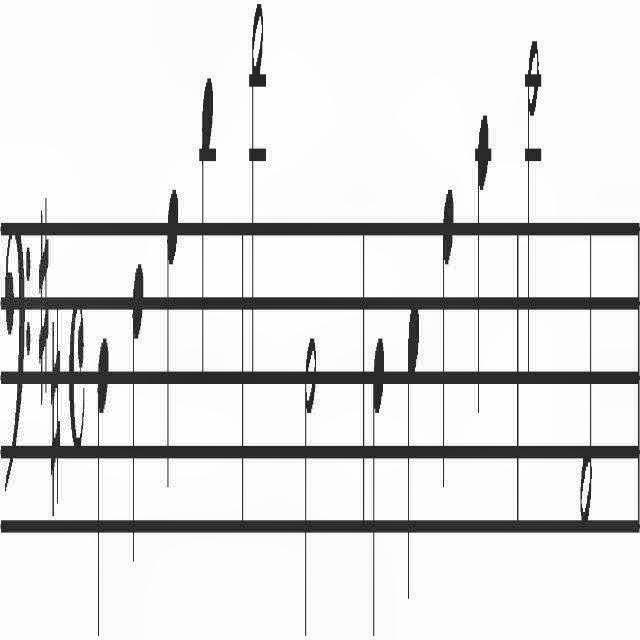Diez: (38, 180, 51, 408), (51, 308, 60, 524)
Half-note: (250, 0, 266, 384), (578, 208, 594, 534), (526, 29, 540, 383), (302, 336, 316, 636)
Quarter-note: (474, 109, 490, 425), (370, 318, 386, 632), (440, 180, 456, 492), (131, 249, 145, 579), (201, 59, 215, 388), (165, 180, 179, 508), (406, 305, 420, 611), (95, 336, 108, 640)
